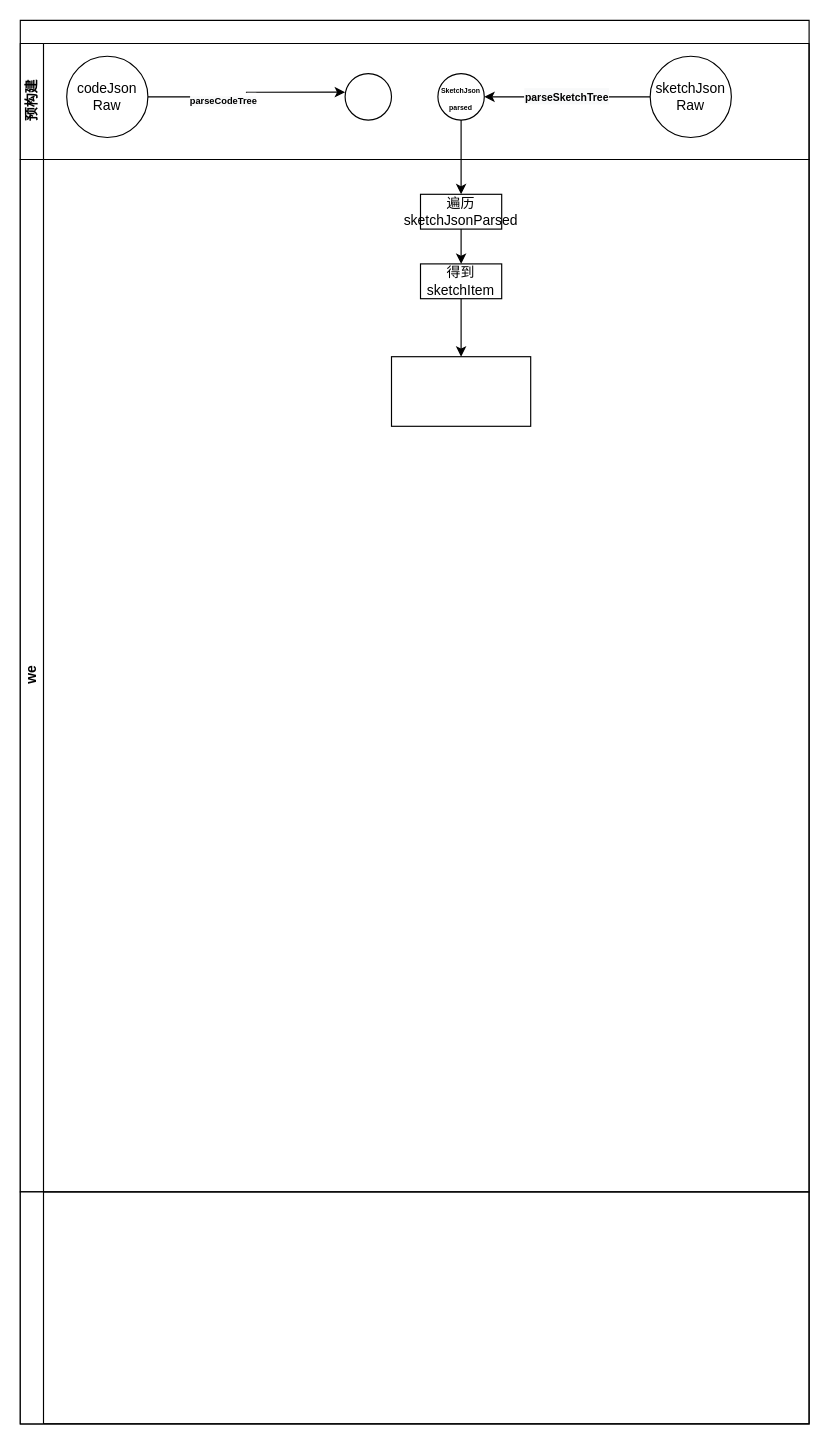
Some shapes in this 829 by 1444 pixel diagram are drawn without their labels. Here are the shapes that lost their labels. From the top down, the centre of each, then its label:
At pixel 368 96: "CodeJson parsed".
At pixel 460 391: "在CodeJsonParsed中 广度遍历 sketchItem".
At pixel 414 1307: "Lane 3".
